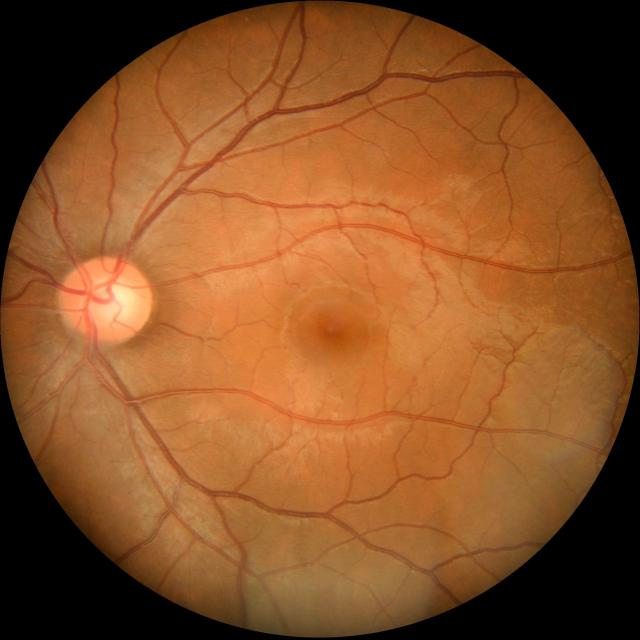OC: (86, 278, 132, 324)
OD: (59, 258, 151, 345)
